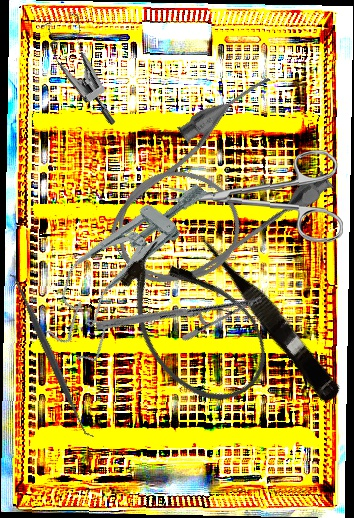Cannula: (79, 65, 346, 315), (97, 226, 287, 423)
Iris Scissors: (166, 144, 346, 244)
Micro Scissor: (191, 223, 347, 406)
Needle Holder: (92, 232, 266, 394)
Spatula Surgical: (4, 268, 98, 444)
Speculum: (29, 155, 220, 369), (24, 1, 152, 128)
